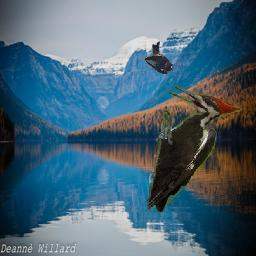Swallow: (145, 42, 174, 75)
Woodpecker: (148, 86, 243, 213)
